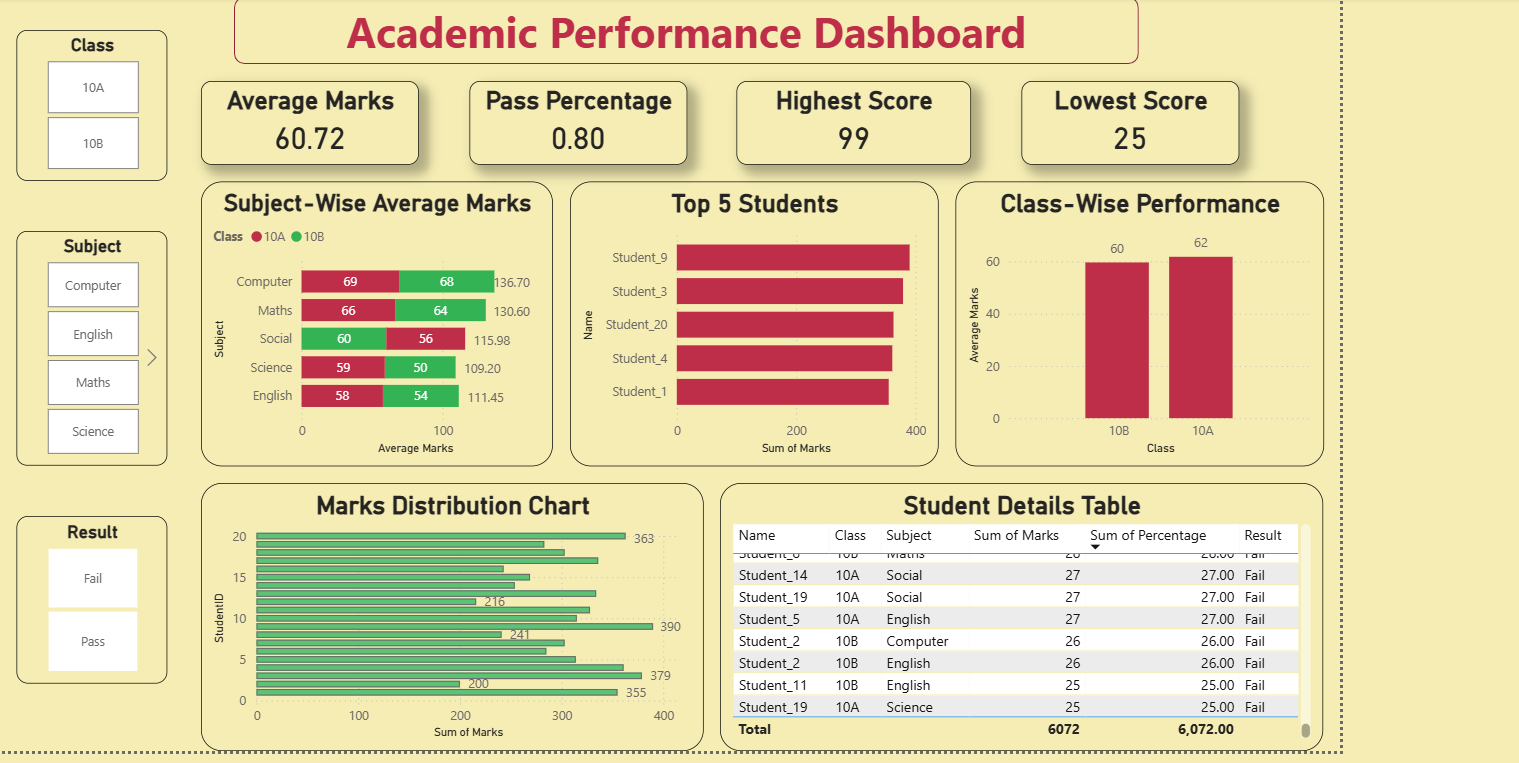

What the dashboard file says about the page in this screenshot:
{"tool":"powerbi","page":{"name":"Page 1","canvas":[1280,720],"ordinal":0},"visuals":[{"type":"card","title":"Pass Percentage","fields":{"Values":["Cleaned_student_MDS.Pass %"]},"box":[448,80,208,80],"z":0},{"type":"card","title":"Highest Score","fields":{"Values":["Cleaned_student_MDS.Highest Marks"]},"box":[704,80,224,80],"z":1000},{"type":"barChart","title":"Subject-Wise Average Marks","fields":{"Category":["Cleaned_student_MDS.Subject"],"Y":["Cleaned_student_MDS.Average Marks"],"Series":["Cleaned_student_MDS.Class"]},"box":[192,176,336,272],"z":2000},{"type":"clusteredBarChart","title":"Top 5 Students","fields":{"Category":["Cleaned_student_MDS.Name"],"Y":["Cleaned_student_MDS.Marks"]},"box":[544,176,352,272],"z":3000},{"type":"card","title":"Lowest Score","fields":{"Values":["Cleaned_student_MDS.Lowest Marks"]},"box":[976,80,208,80],"z":4000},{"type":"clusteredColumnChart","title":"Class-Wise Performance","fields":{"Category":["Cleaned_student_MDS.Class"],"Y":["Cleaned_student_MDS.Average Marks"]},"box":[912,176,352,272],"z":5000},{"type":"slicer","title":"Class","fields":{"Values":["Cleaned_student_MDS.Class"]},"box":[16,32,144,144],"z":6000},{"type":"slicer","title":"Subject","fields":{"Values":["Cleaned_student_MDS.Subject"]},"box":[16,224,144,224],"z":7000},{"type":"slicer","title":"Result","fields":{"Values":["Cleaned_student_MDS.Result"]},"box":[16,496,144,160],"z":8000},{"type":"clusteredBarChart","title":"Marks Distribution Chart","fields":{"Category":["Cleaned_student_MDS.StudentID"],"Y":["Cleaned_student_MDS.Marks"]},"box":[192,464,480,256],"z":9000},{"type":"tableEx","title":"Student Details Table","fields":{"Values":["Cleaned_student_MDS.Name","Cleaned_student_MDS.Class","Cleaned_student_MDS.Subject","Cleaned_student_MDS.Marks","Cleaned_student_MDS.Percentage","Cleaned_student_MDS.Result"]},"box":[688,464,576,256],"z":10000},{"type":"card","title":"Average Marks","fields":{"Values":["Cleaned_student_MDS.Average Marks"]},"box":[192,80,208,80],"z":11000},{"type":"shape","box":[224,0,864,64],"z":12000}]}

Visuals, with their boxes in screenshot pixels (x1, y1, x2, y2):
"Pass Percentage" card: 465, 103, 682, 187
"Highest Score" card: 732, 103, 966, 187
"Subject-Wise Average Marks" barChart: 197, 204, 548, 488
"Top 5 Students" clusteredBarChart: 565, 204, 933, 488
"Lowest Score" card: 1017, 103, 1234, 187
"Class-Wise Performance" clusteredColumnChart: 950, 204, 1318, 488
"Class" slicer: 13, 53, 163, 204
"Subject" slicer: 13, 254, 163, 488
"Result" slicer: 13, 538, 163, 706
"Marks Distribution Chart" clusteredBarChart: 197, 505, 699, 762
"Student Details Table" tableEx: 715, 505, 1318, 762
"Average Marks" card: 197, 103, 414, 187
shape: 230, 20, 1134, 87
